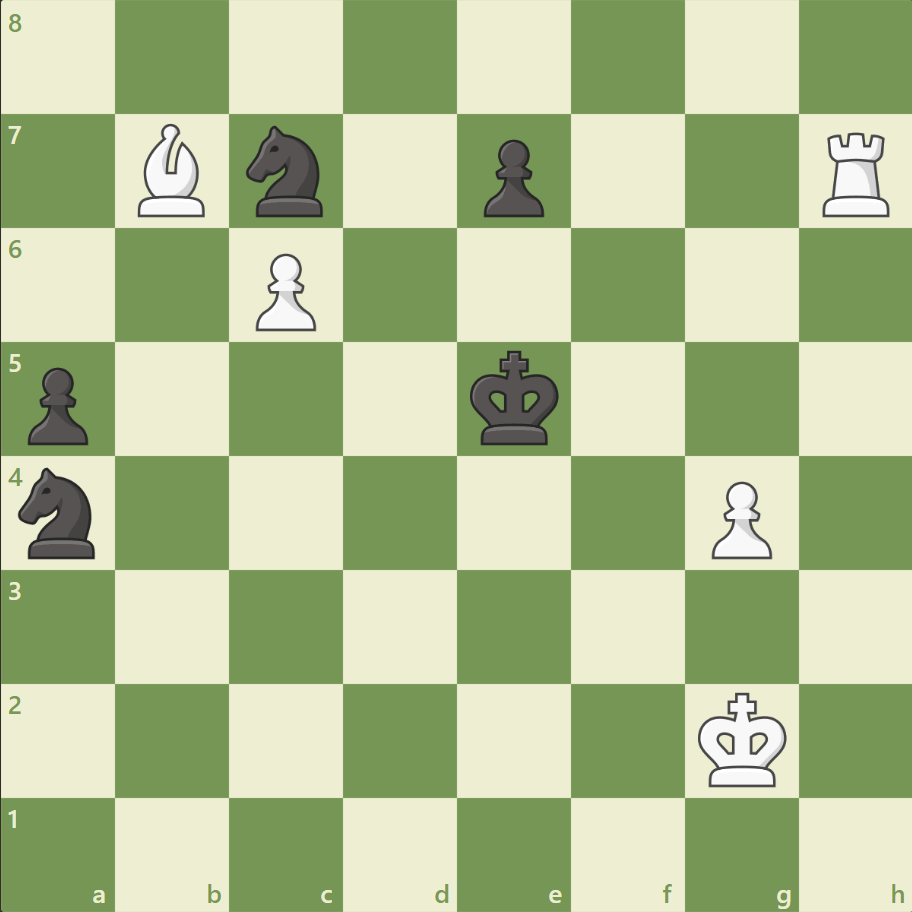B: (131, 120, 215, 222)
K: (692, 685, 792, 793)
P: (247, 246, 322, 337), (701, 473, 776, 564)
R: (814, 125, 897, 222)
k: (465, 344, 565, 452)
n: (11, 461, 108, 564), (238, 121, 335, 223)
p: (474, 132, 549, 223), (20, 359, 95, 450)
